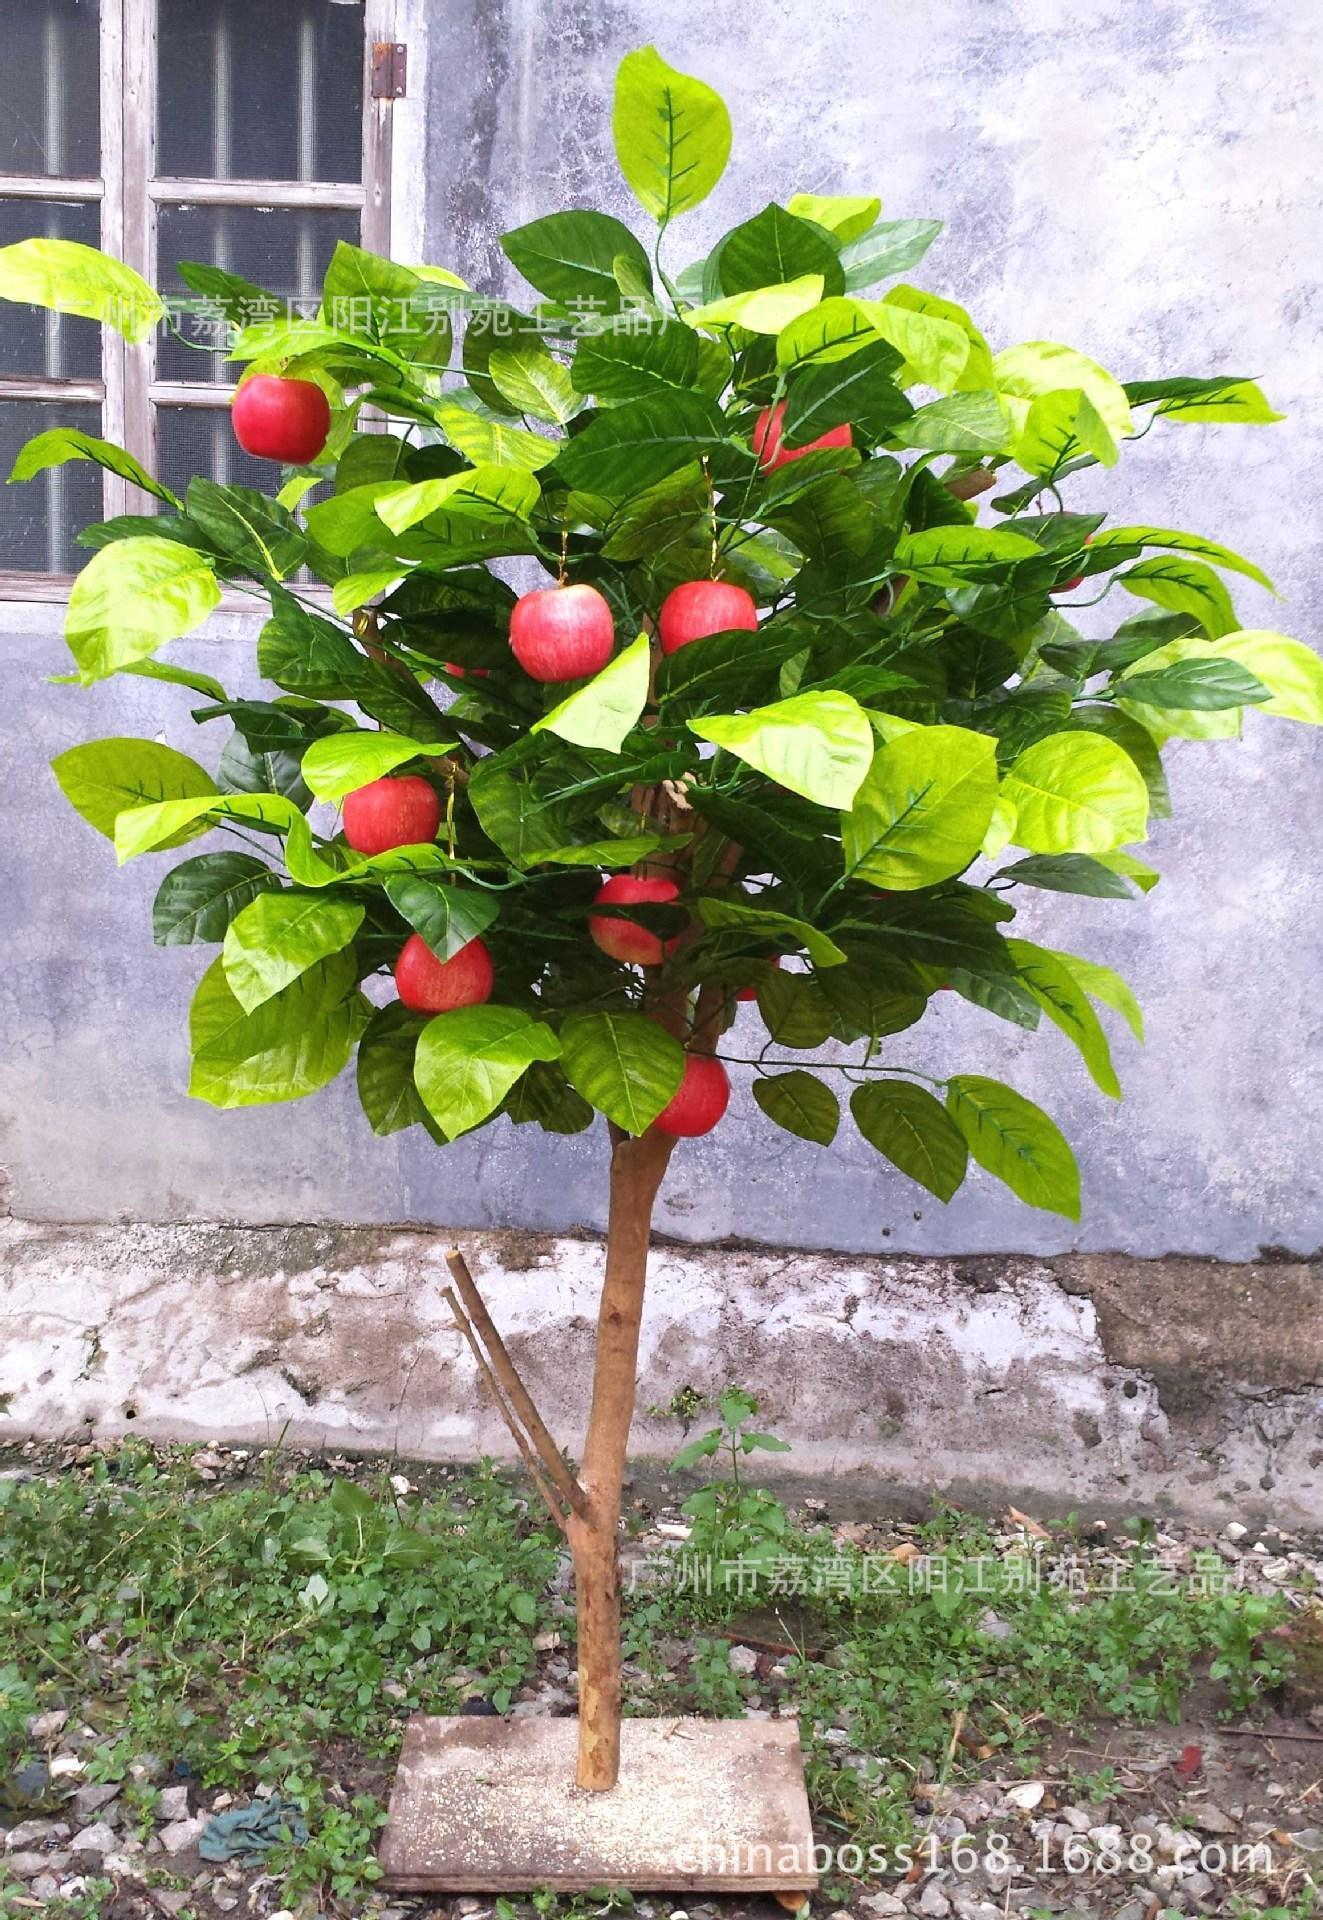apple: (309, 743, 449, 853), (508, 584, 614, 687), (591, 870, 694, 963), (228, 373, 331, 467), (337, 778, 441, 859), (392, 937, 493, 1015), (656, 584, 759, 659), (648, 1055, 728, 1144)
